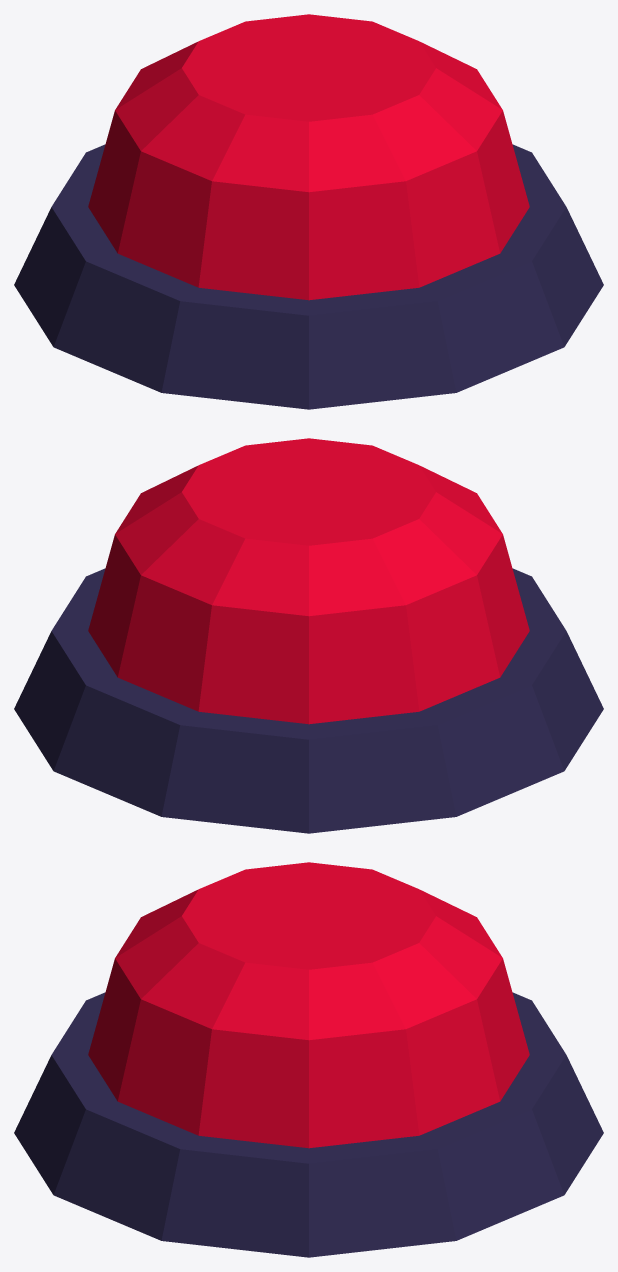
File: c_button.glb
The picture shows the model from 3 angles, top to bottom: view 1: azimuth 30°, elevation 25°; view 2: azimuth 150°, elevation 25°; view 3: azimuth 270°, elevation 25°; orthographic projection.
Visible parts, largest first — view 1: C_Button, C_ButtonBase; view 2: C_Button, C_ButtonBase; view 3: C_Button, C_ButtonBase.
Part boxes in pixels (x1,y1,x2,y2): C_Button: (88, 14, 529, 300); C_ButtonBase: (14, 144, 603, 409); C_Button: (88, 438, 529, 724); C_ButtonBase: (14, 568, 603, 833); C_Button: (88, 862, 529, 1148); C_ButtonBase: (14, 992, 603, 1257).
Bounding box in the file's own units: 0.2275 × 0.0923 × 0.2275.
Materials: 1 (1 with a texture image).
